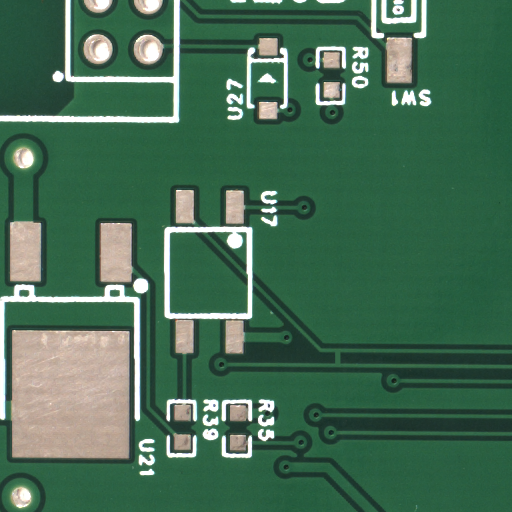Short: (337, 357, 350, 374)
